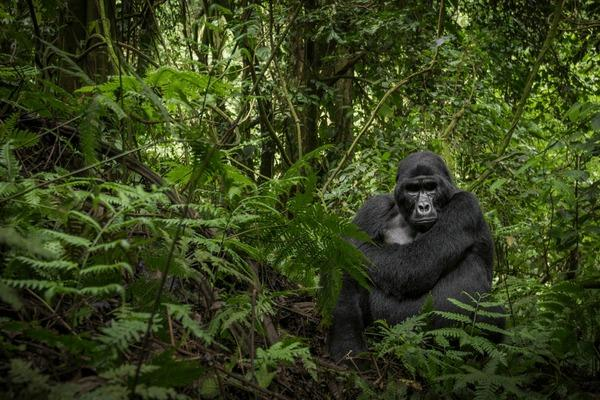goriile_montagne: (331, 146, 499, 330)
